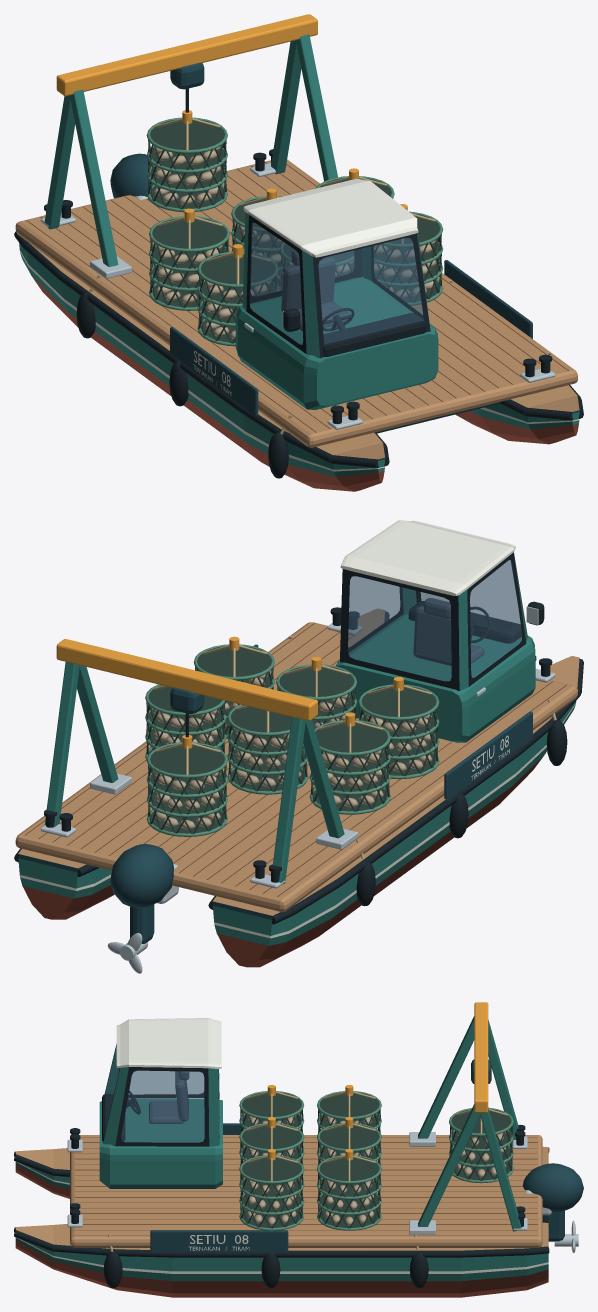
3 views of the same model, one above another, from view 1: azimuth 30°, elevation 25°; view 2: azimuth 150°, elevation 25°; view 3: azimuth 270°, elevation 25° (orthographic). The views are drawn at different scales.
Visible parts, largest first — view 1: Setiu Lantern Basket Tender; view 2: Setiu Lantern Basket Tender; view 3: Setiu Lantern Basket Tender.
Boxes of the visible parts, box(x1,y1,x2,y2) form: Setiu Lantern Basket Tender: box(14, 14, 583, 491); Setiu Lantern Basket Tender: box(14, 520, 583, 973); Setiu Lantern Basket Tender: box(14, 1002, 583, 1297).
Bounding box in the file's own units: 3.17 × 2.64 × 6.61.
